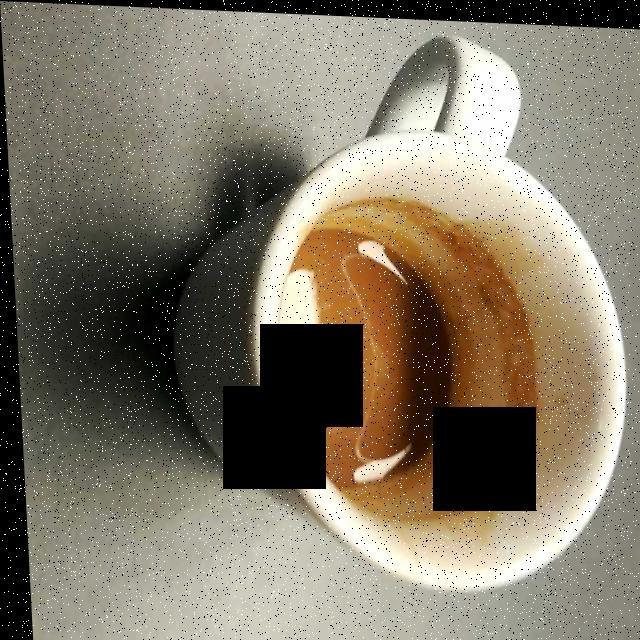espresso: (257, 183, 463, 482)
risotto: (278, 189, 539, 531)
